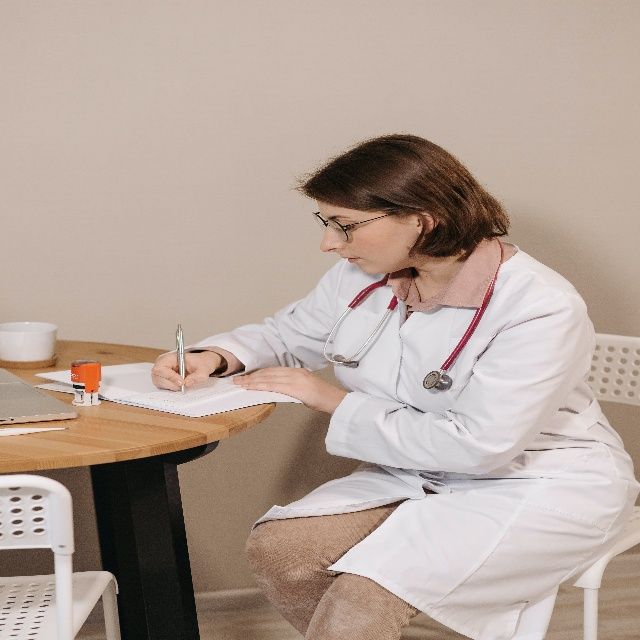Gafas: (312, 209, 391, 242)
Sin_guantes: (232, 365, 330, 412), (150, 350, 217, 391)
